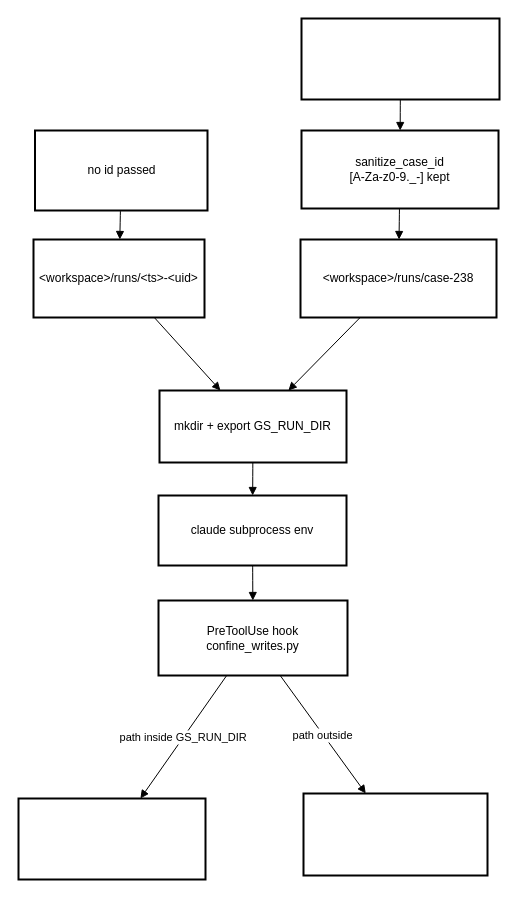
Image size: 517x897. Some labels were removed from this diagram. The shapes that lost their labels are listed below. From the top down, each one's centre as x and y in pixels, then its label:
point (400, 58): --case-id case-238 (or --work-item-id / --pipeline-id / --run-dir)
point (111, 838): ✅ Write/Edit allowed
point (395, 834): ❌ blocked before it happens
